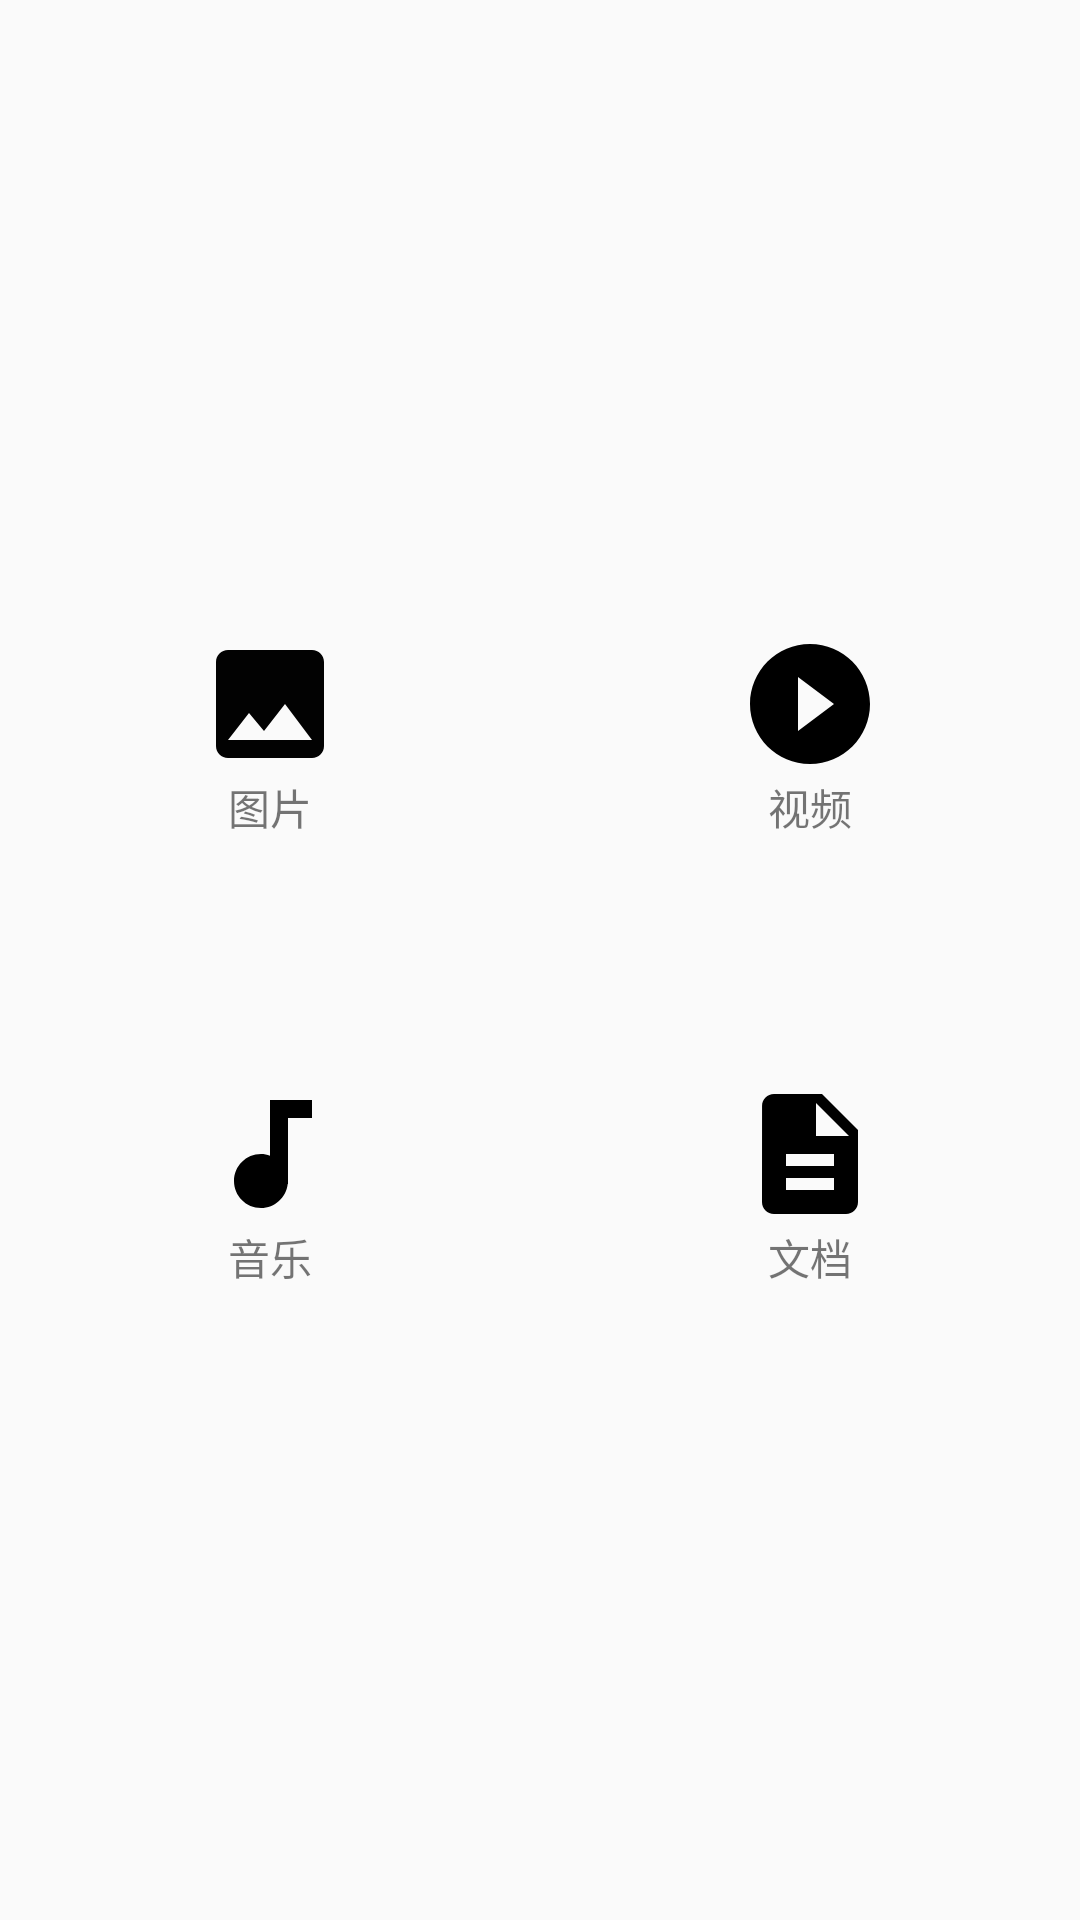

Icon bounding boxes for this 1080×1920 phone screenshot, format [left=x1, top=y1, right=x2, bottom=y2]:
audiotrack: [left=234, top=1100, right=312, bottom=1208]
description: [left=762, top=1094, right=858, bottom=1214]
play circle: [left=750, top=644, right=870, bottom=764]
